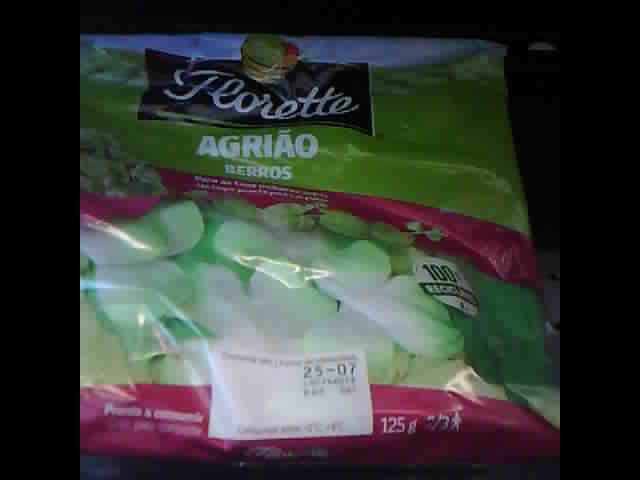florette: (82, 28, 552, 465)
